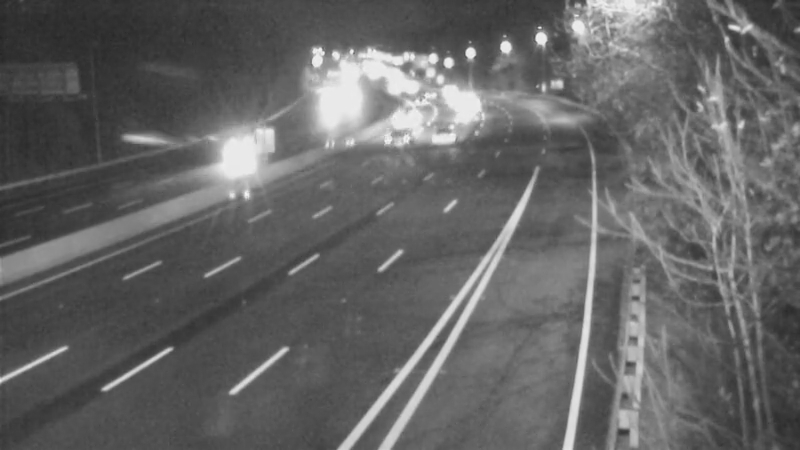vehicle: (195, 118, 275, 198), (371, 63, 421, 113), (425, 64, 475, 114), (397, 67, 447, 117), (431, 76, 481, 126), (387, 75, 437, 125), (442, 77, 492, 127), (435, 96, 485, 146), (377, 92, 427, 142), (424, 105, 474, 155), (366, 114, 416, 164)
